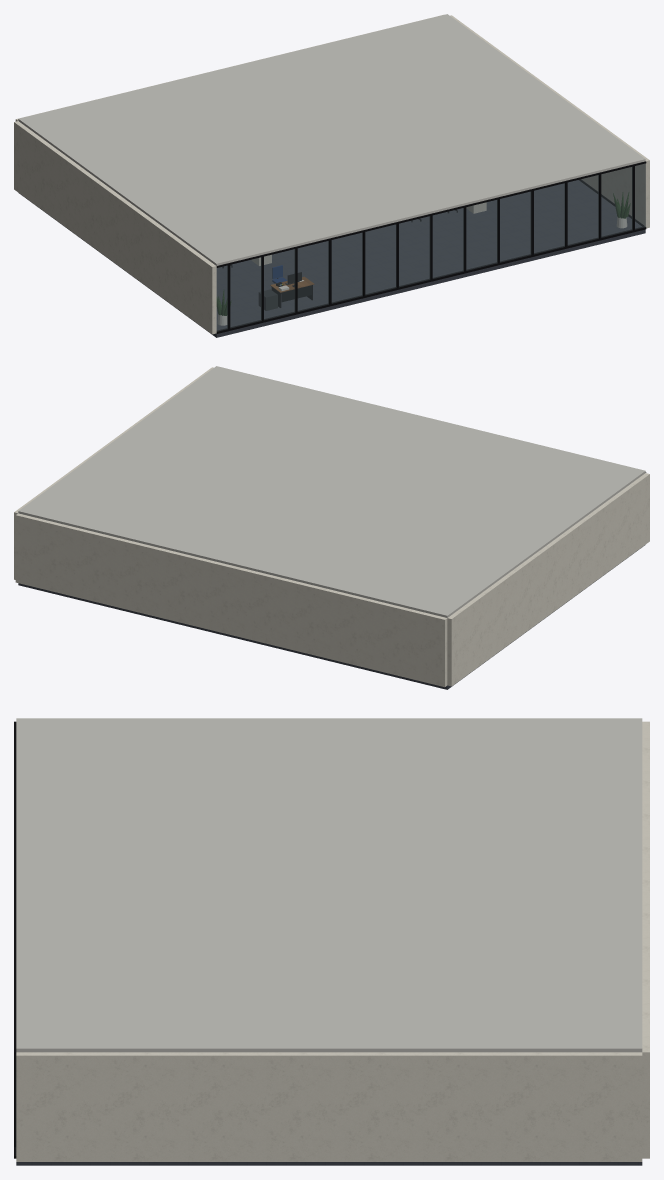
Rendered from harbor_office_f14.glb.
3 views of the same model, one above another, from view 1: azimuth 30°, elevation 25°; view 2: azimuth 150°, elevation 25°; view 3: azimuth 270°, elevation 25° (orthographic). The views are drawn at different scales.
Visible parts, largest first — view 1: Office_F14_Shell, Desk_Player; view 2: Office_F14_Shell; view 3: Office_F14_Shell.
Part boxes in pixels (box(x1,y1,x2,y2)): Office_F14_Shell: box(14, 14, 649, 337); Desk_Player: box(258, 276, 314, 310); Office_F14_Shell: box(14, 366, 649, 689); Office_F14_Shell: box(14, 718, 649, 1165).
Size of the model in its own units: 20.4 by 3.3 by 16.26.
25 materials, 8 textured.
